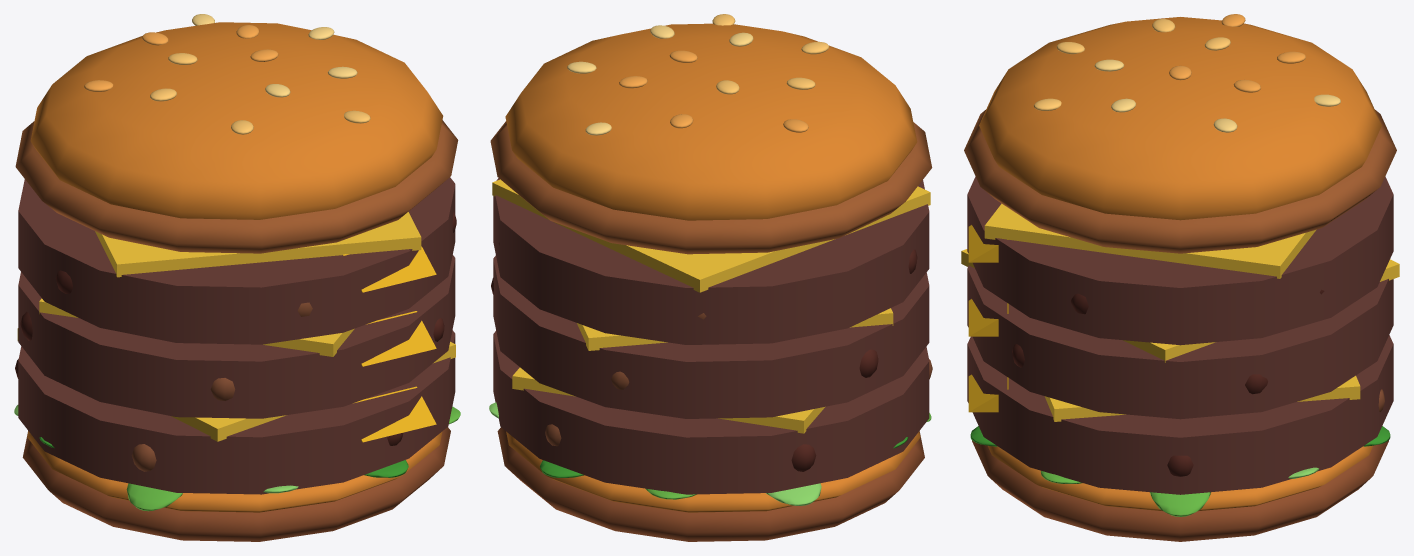
Rendered from CMU3DFoodBurgerBigCloud.glb.
3 renders of one model, left to right at view 1: azimuth 30°, elevation 25°; view 2: azimuth 150°, elevation 25°; view 3: azimuth 270°, elevation 25°, orthographic.
Parts seen in each view (by area): view 1: top rounded golden bun, grilled beef patty 3, grilled beef patty 1, grilled beef patty 2, top bun toasted edge, bottom baked bun, cheese slice 3, bottom bun crumb, cheese slice 1, cheese slice 2, cheese drape 1, cheese drape 2 (+3 smaller); view 2: top rounded golden bun, grilled beef patty 3, grilled beef patty 1, grilled beef patty 2, top bun toasted edge, bottom baked bun, cheese slice 3, bottom bun crumb, cheese slice 1, cheese slice 2, lettuce ruffle 05, patty edge 1-3; view 3: top rounded golden bun, grilled beef patty 3, grilled beef patty 1, grilled beef patty 2, top bun toasted edge, bottom baked bun, cheese slice 3, bottom bun crumb, cheese slice 1, cheese slice 2, lettuce ruffle 01, cheese drape 1 (+2 smaller).
Part boxes in pixels (left/top/right/bottom): top rounded golden bun: left=30, top=22, right=443, bottom=219; grilled beef patty 3: left=18, top=177, right=455, bottom=344; grilled beef patty 1: left=18, top=330, right=455, bottom=494; grilled beef patty 2: left=18, top=255, right=455, bottom=418; top bun toasted edge: left=15, top=120, right=458, bottom=253; bottom baked bun: left=22, top=427, right=450, bottom=541; cheese slice 3: left=95, top=212, right=421, bottom=277; bottom bun crumb: left=27, top=431, right=442, bottom=512; cheese slice 1: left=17, top=328, right=455, bottom=441; cheese slice 2: left=39, top=298, right=354, bottom=356; cheese drape 1: left=353, top=386, right=436, bottom=442; cheese drape 2: left=361, top=311, right=436, bottom=366; top rounded golden bun: left=505, top=23, right=917, bottom=220; grilled beef patty 3: left=493, top=178, right=929, bottom=344; grilled beef patty 1: left=493, top=330, right=929, bottom=494; grilled beef patty 2: left=493, top=255, right=929, bottom=418; top bun toasted edge: left=490, top=121, right=932, bottom=254; bottom baked bun: left=497, top=427, right=924, bottom=541; cheese slice 3: left=492, top=179, right=930, bottom=292; bottom bun crumb: left=506, top=431, right=920, bottom=512; cheese slice 1: left=512, top=367, right=825, bottom=433; cheese slice 2: left=577, top=308, right=893, bottom=350; lettuce ruffle 05: left=766, top=483, right=821, bottom=505; patty edge 1-3: left=791, top=444, right=816, bottom=471; top rounded golden bun: left=979, top=17, right=1381, bottom=220; grilled beef patty 3: left=967, top=176, right=1393, bottom=345; grilled beef patty 1: left=967, top=335, right=1393, bottom=494; grilled beef patty 2: left=967, top=265, right=1393, bottom=419; top bun toasted edge: left=964, top=110, right=1396, bottom=253; bottom baked bun: left=972, top=440, right=1388, bottom=541; cheese slice 3: left=984, top=203, right=1316, bottom=278; bottom bun crumb: left=988, top=445, right=1372, bottom=511; cheese slice 1: left=1044, top=375, right=1360, bottom=421; cheese slice 2: left=961, top=249, right=1399, bottom=362; lettuce ruffle 01: left=1150, top=492, right=1210, bottom=516; cheese drape 1: left=968, top=374, right=1008, bottom=412.
Bounding box in the file's own units: 0.508 × 0.5311 × 0.4938.
